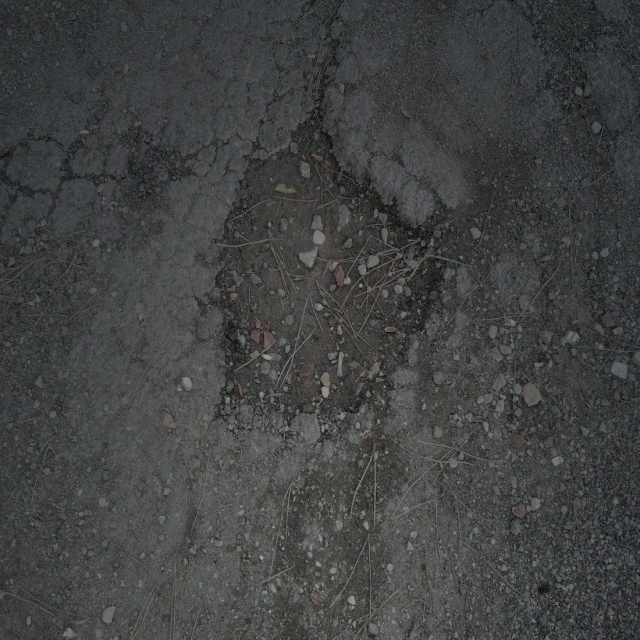pothole: (202, 101, 445, 434)
